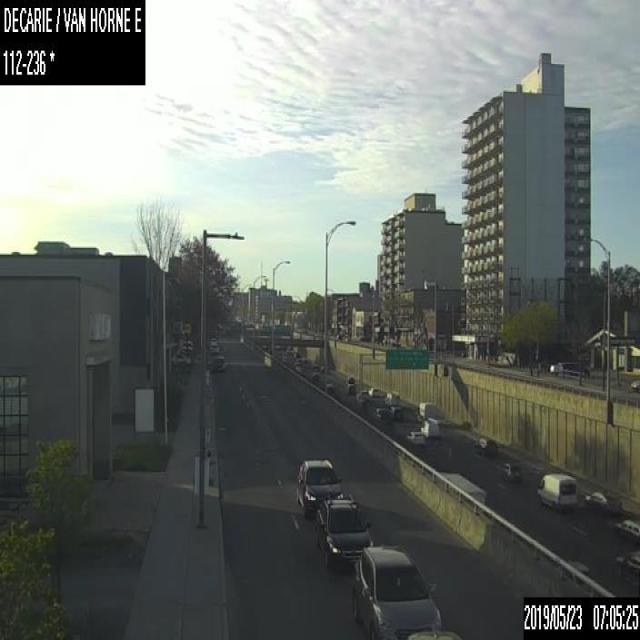vehicle: (353, 544, 441, 639), (315, 492, 373, 572), (295, 458, 343, 516), (440, 471, 487, 501), (538, 473, 576, 510), (612, 548, 639, 579), (583, 490, 619, 513), (613, 518, 639, 544), (474, 436, 496, 456), (420, 416, 439, 438), (501, 462, 520, 482), (415, 402, 434, 422), (208, 352, 225, 371), (170, 350, 190, 364), (383, 391, 399, 407), (407, 430, 423, 444), (388, 404, 402, 419), (371, 407, 387, 420), (355, 389, 368, 403), (322, 383, 335, 396), (209, 340, 218, 353), (630, 379, 639, 392), (293, 360, 301, 372), (368, 386, 377, 396), (346, 382, 354, 393), (311, 371, 319, 379), (346, 375, 354, 382)
